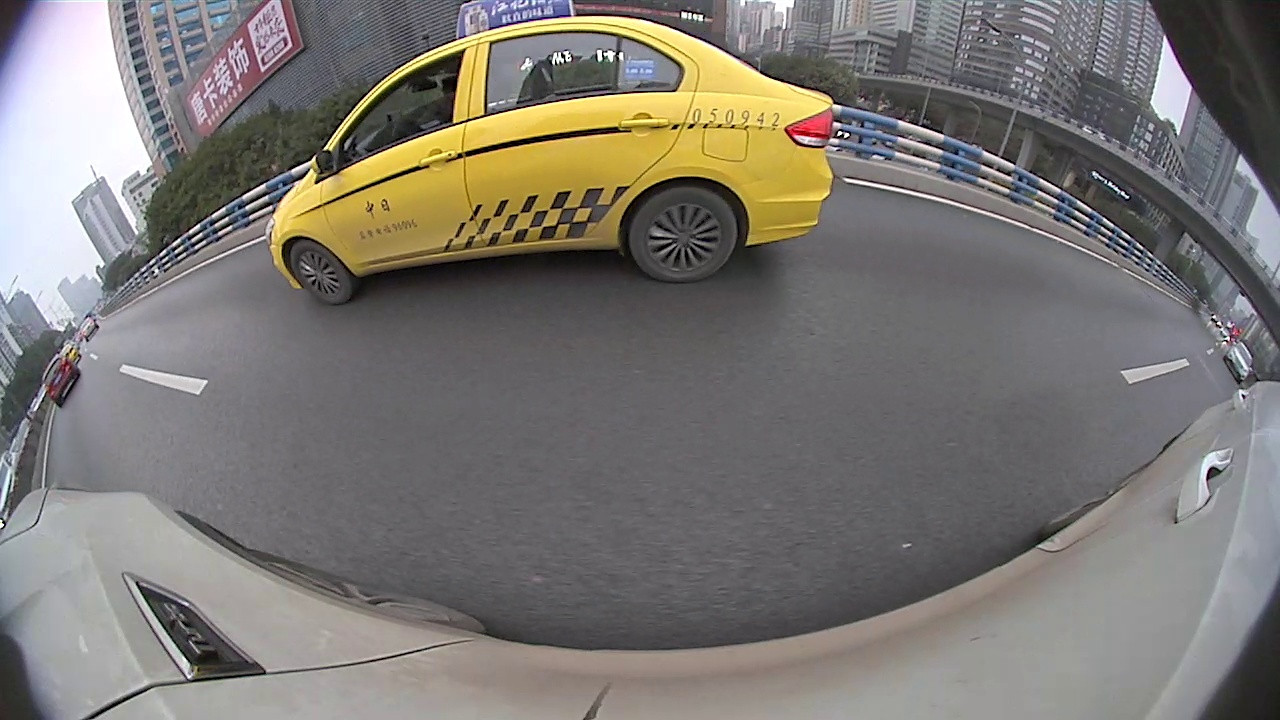car: (266, 2, 835, 306), (40, 353, 81, 411), (1223, 340, 1255, 387)
front: (291, 243, 353, 302)
rear: (632, 188, 737, 279)
